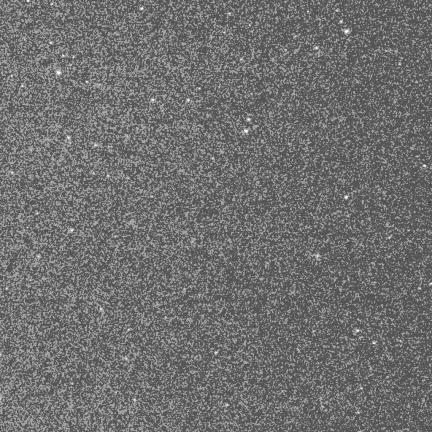blob: (343, 29, 350, 34), (372, 341, 376, 345), (339, 19, 343, 23), (57, 71, 61, 75), (314, 46, 318, 50), (247, 118, 251, 121), (244, 130, 248, 133), (187, 99, 191, 102), (345, 195, 348, 199), (152, 98, 155, 102), (423, 165, 427, 168), (215, 351, 218, 355), (141, 7, 143, 10)
